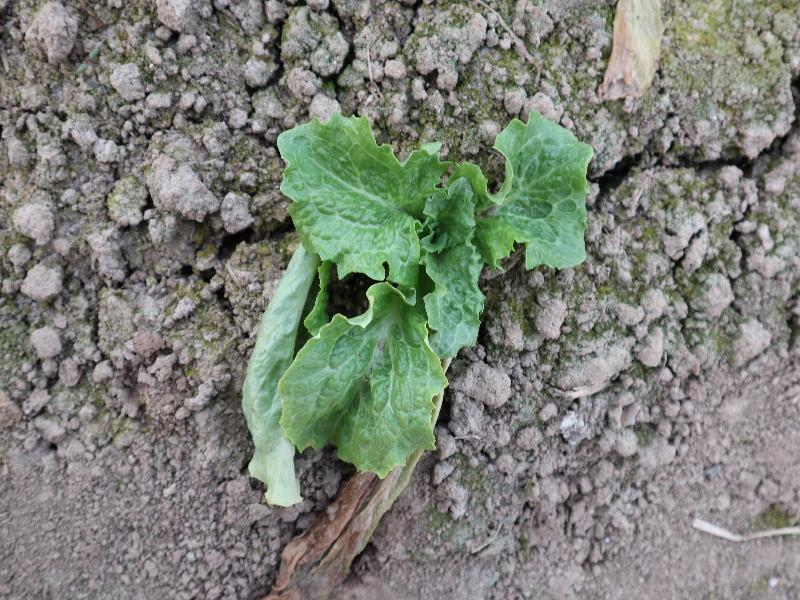lettuce: (240, 110, 596, 504)
